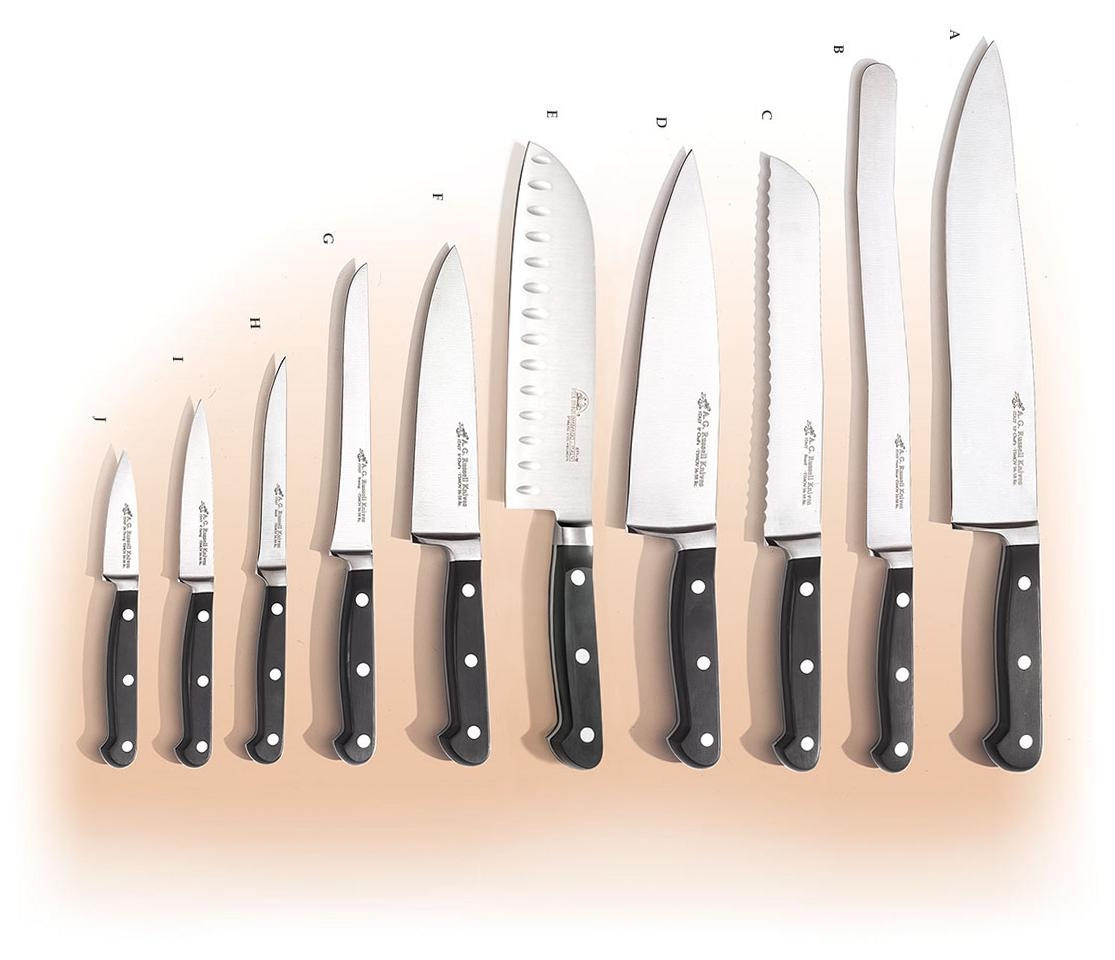knife: (940, 43, 1045, 772), (628, 149, 723, 767), (408, 243, 495, 767), (327, 262, 383, 769), (174, 400, 218, 767), (253, 356, 287, 764), (99, 453, 142, 768)
